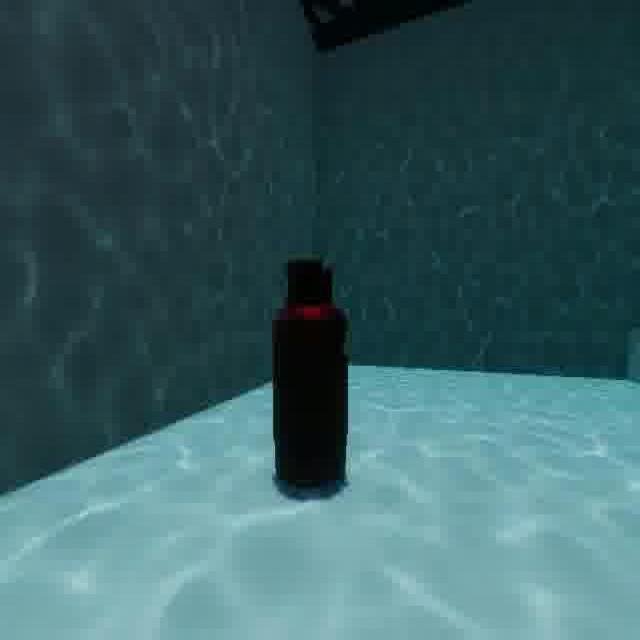Cylinder: (268, 242, 355, 500)
